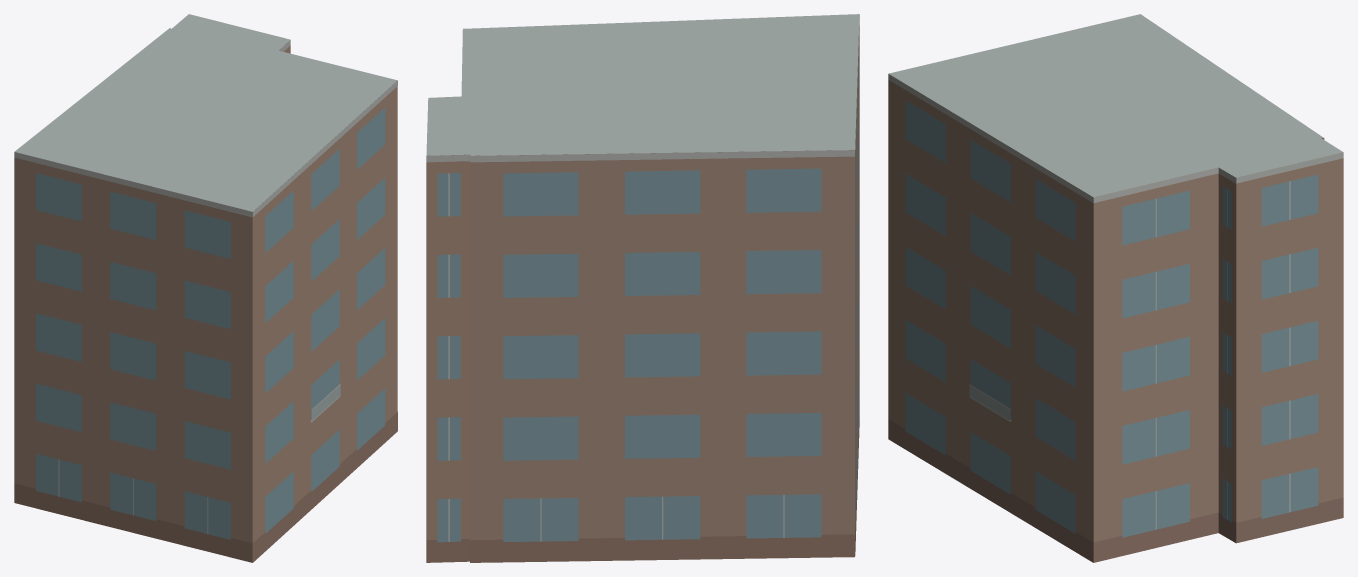
The model's file is survey-upis-32780357.glb.
The picture shows the model from 3 angles, left to right: view 1: azimuth 30°, elevation 25°; view 2: azimuth 150°, elevation 25°; view 3: azimuth 270°, elevation 25°; orthographic projection. The views are drawn at different scales.
Visible parts, largest first — view 1: survey-upis-32780357.tmp; view 2: survey-upis-32780357.tmp; view 3: survey-upis-32780357.tmp.
Boxes of the visible parts, left/top/right/bottom form: survey-upis-32780357.tmp: left=14, top=14, right=397, bottom=562; survey-upis-32780357.tmp: left=426, top=14, right=859, bottom=562; survey-upis-32780357.tmp: left=888, top=14, right=1343, bottom=562.
Size of the model in its own units: 16.36 by 15.2 by 17.17.
